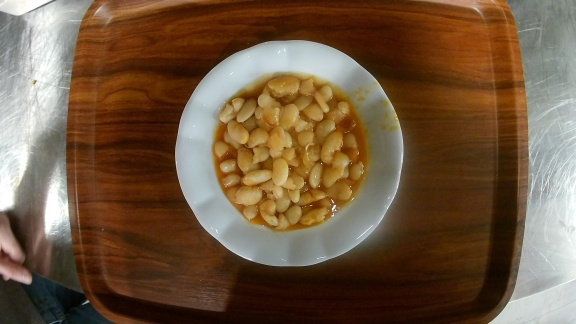kurufasulye: (174, 38, 405, 269)
